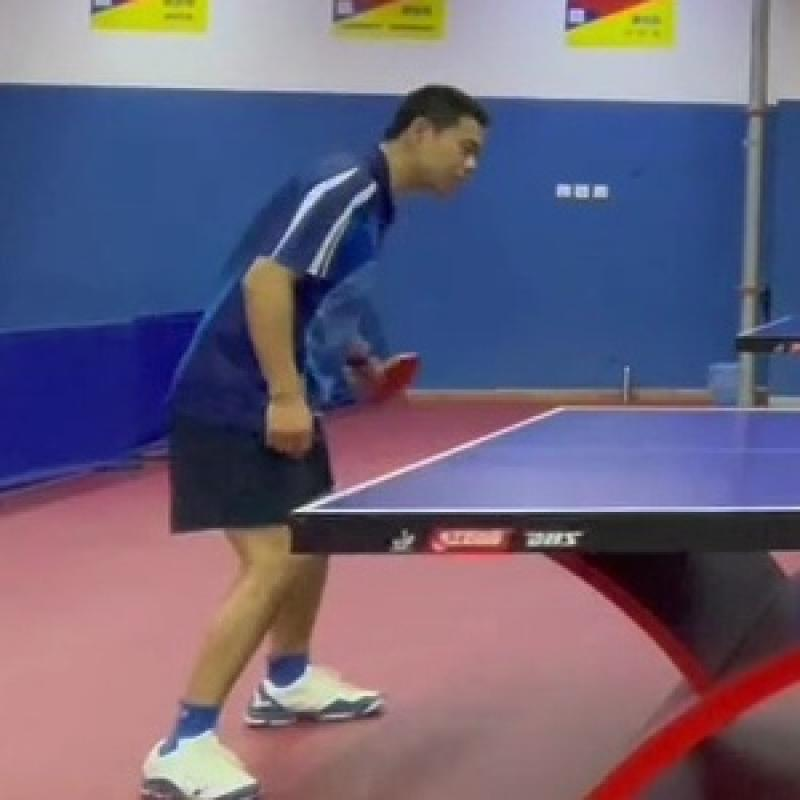bats: (357, 340, 434, 429)
